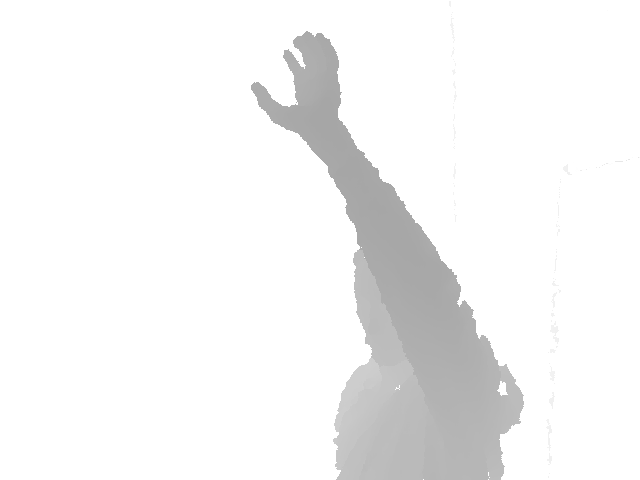hand: (250, 30, 353, 134)
head: (352, 248, 416, 369)
person: (250, 30, 526, 479)
